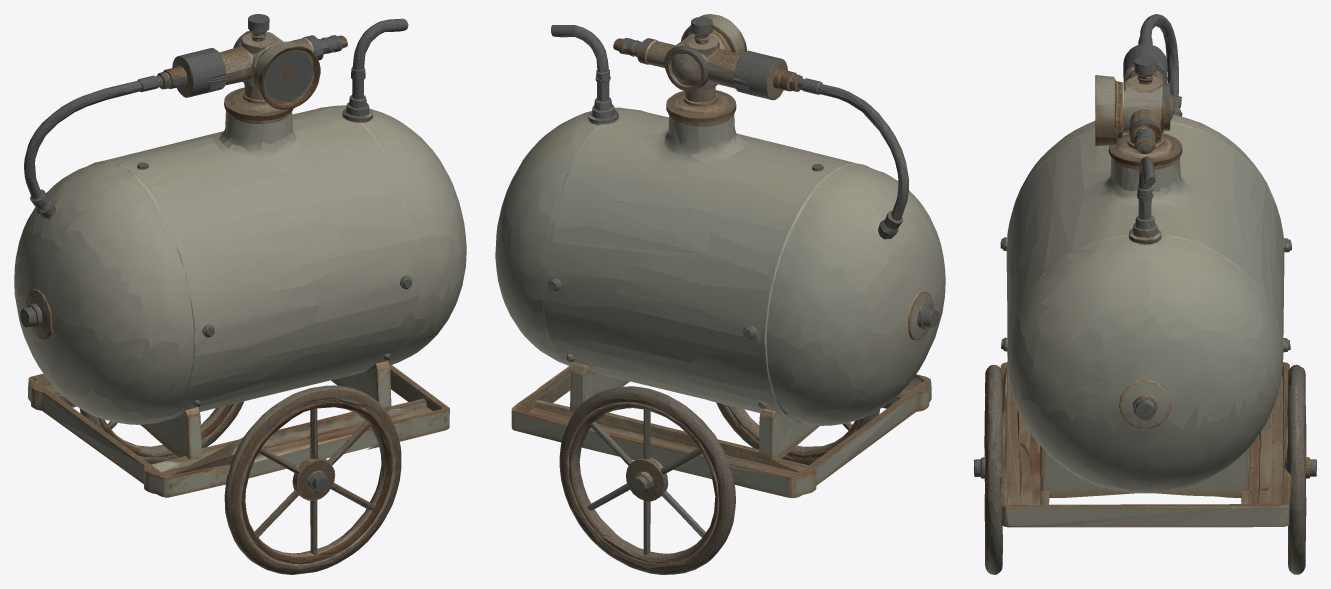
The model's file is bombola_A.glb.
The picture shows the model from 3 angles, left to right: view 1: azimuth 30°, elevation 25°; view 2: azimuth 150°, elevation 25°; view 3: azimuth 270°, elevation 25°; orthographic projection. The views are drawn at different scales.
Size of the model in its own units: 1.73 by 1.9 by 1.15.
1 material, 1 textured.
